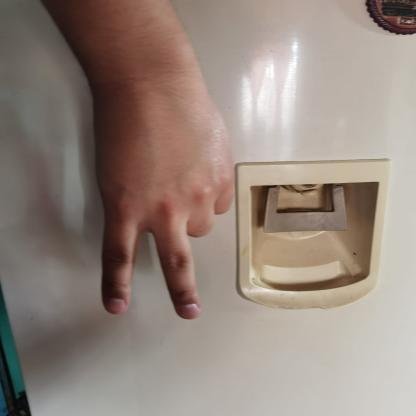N: (80, 77, 236, 318)
